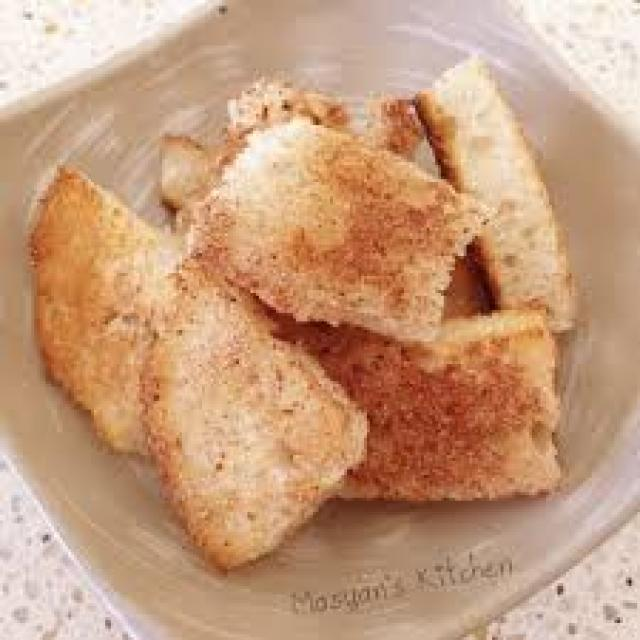food_waste: (31, 57, 572, 563)
